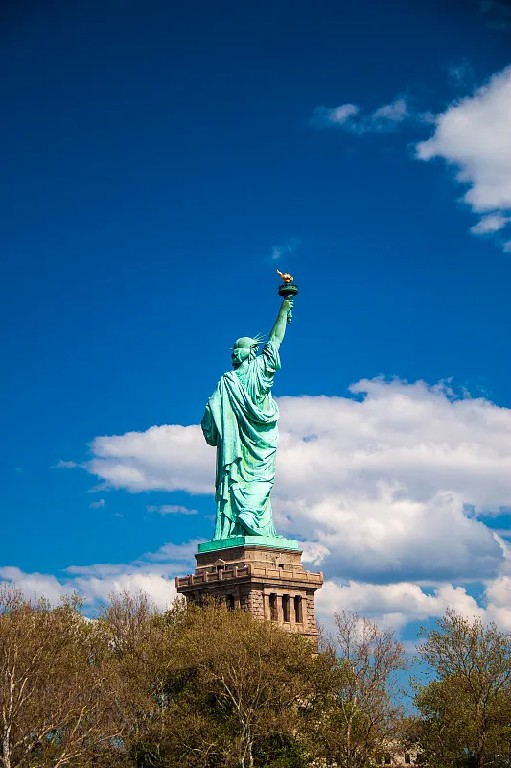SL: (174, 269, 323, 651)
